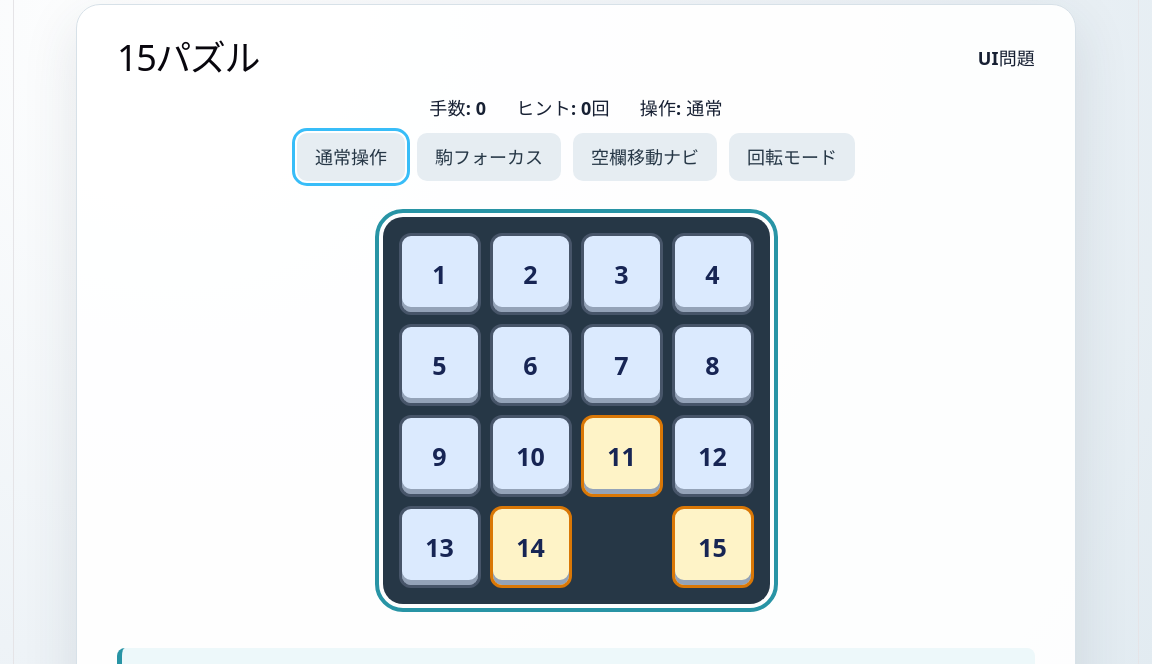
Test: previews and applies an empty-cell navigation path
Expected: the table named "15パズル盤面" is shown, [382,217,770,604]
Click the button "空欄移動ナビ": (645, 157) [573,133,717,181]
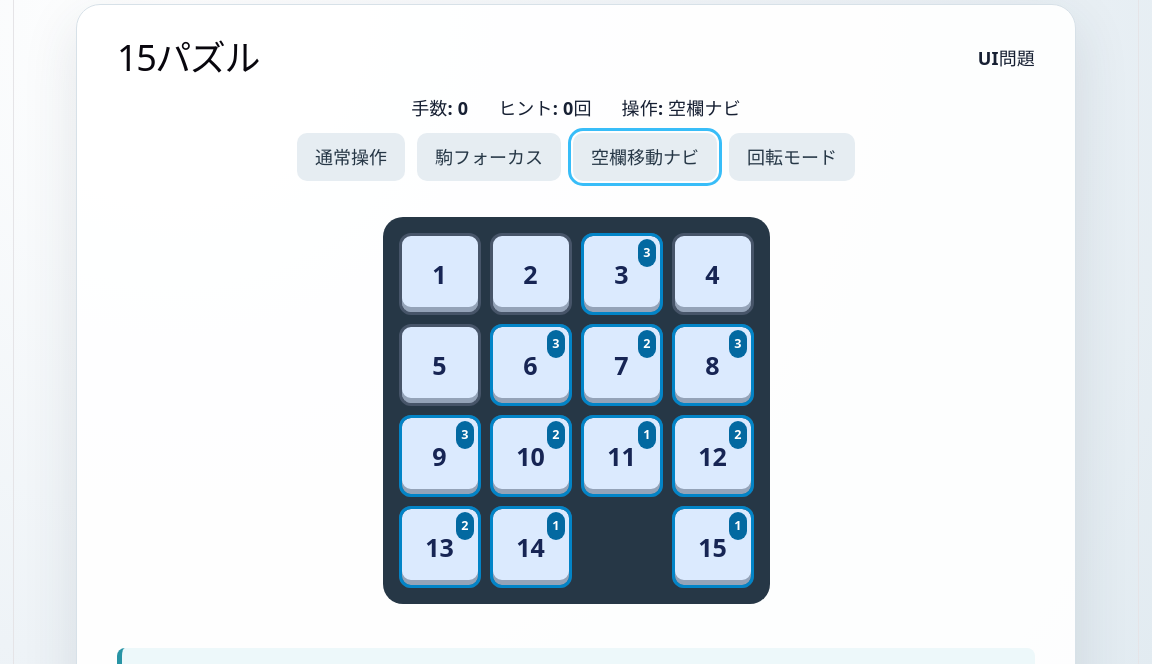
Click the button named "駒 15": (712, 547) [672,506,754,588]
(page scrolled)
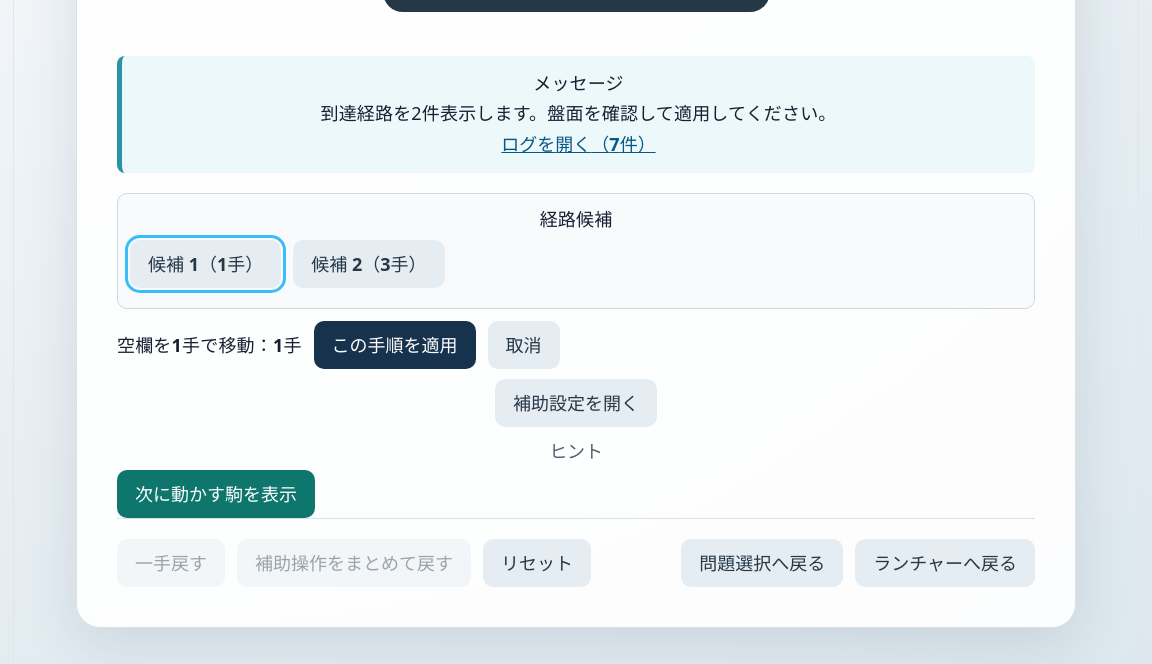
Now the button "この手順を適用" is shown
Click the button "この手順を適用": (395, 345) [314,321,476,369]
(page scrolled)
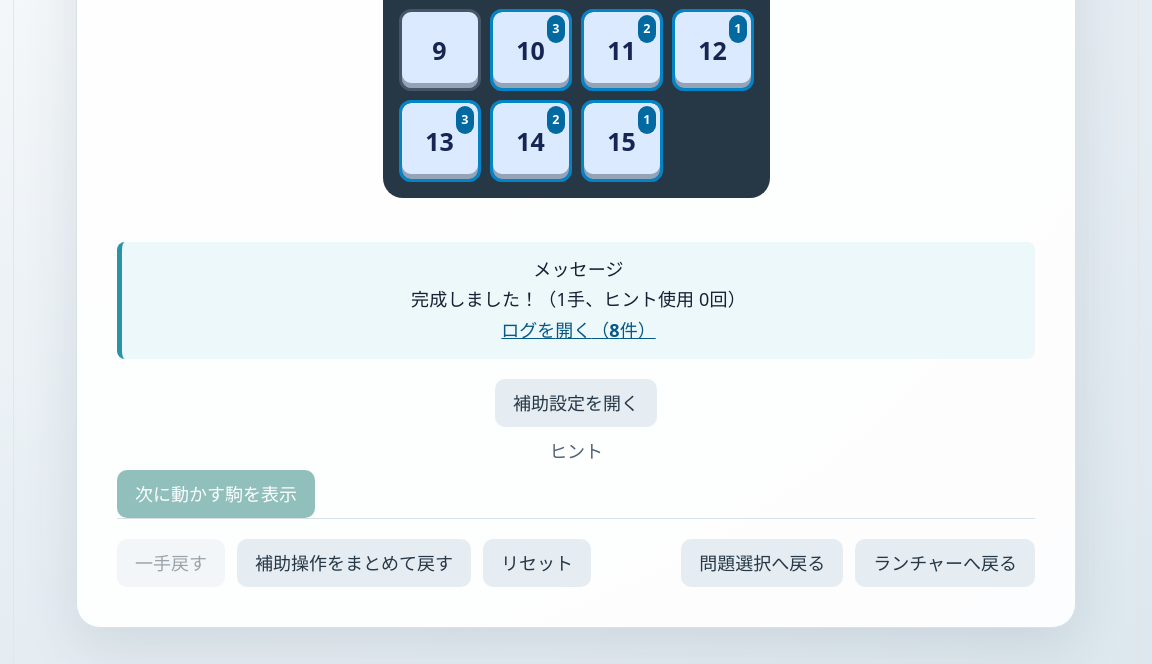
Now the text "完成しました！（1手、ヒント使用 0回）" is shown, box [411,287,746,311]
